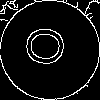O: (25, 25, 74, 68)
